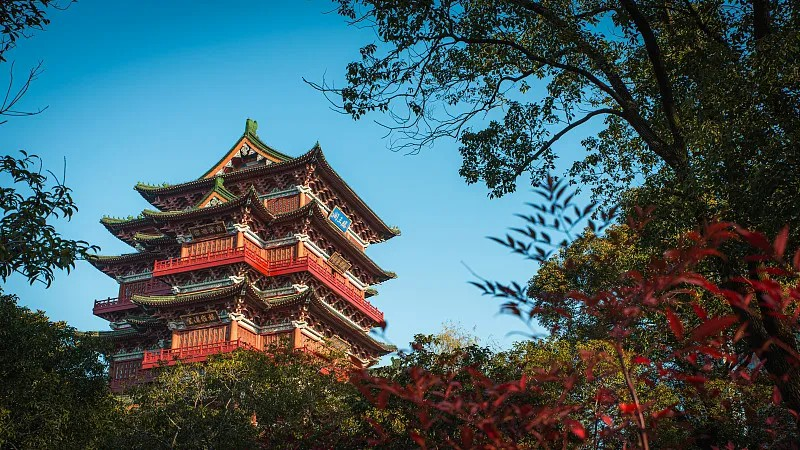Teng: (82, 119, 399, 385)
